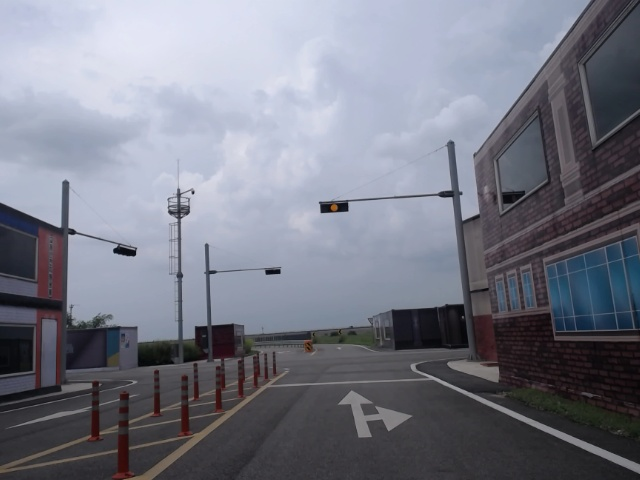orange_3: (320, 201, 349, 213)
